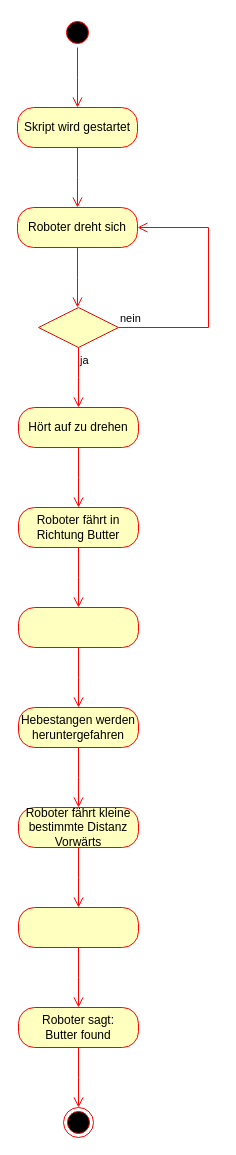
Image size: 236x1155. Some labels were removed from this diagram. Here are the shapes that lost their labels. From the top down, the centre of each, then its label:
At pixel 78 327: "Butter erkannt".
At pixel 78 627: "Stoppt wenn die Butter unter der Kamera verschwindet".
At pixel 78 927: "Roboter fährt die Hebestangen hoch".
